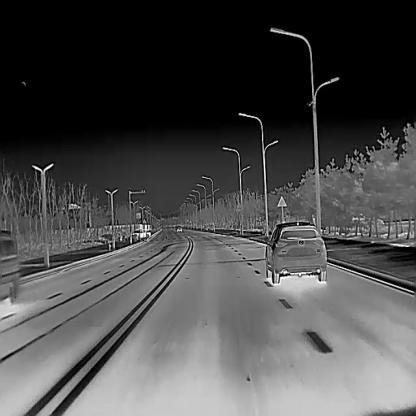car: (263, 219, 327, 283), (131, 228, 143, 238), (137, 229, 151, 237), (176, 226, 182, 231)
